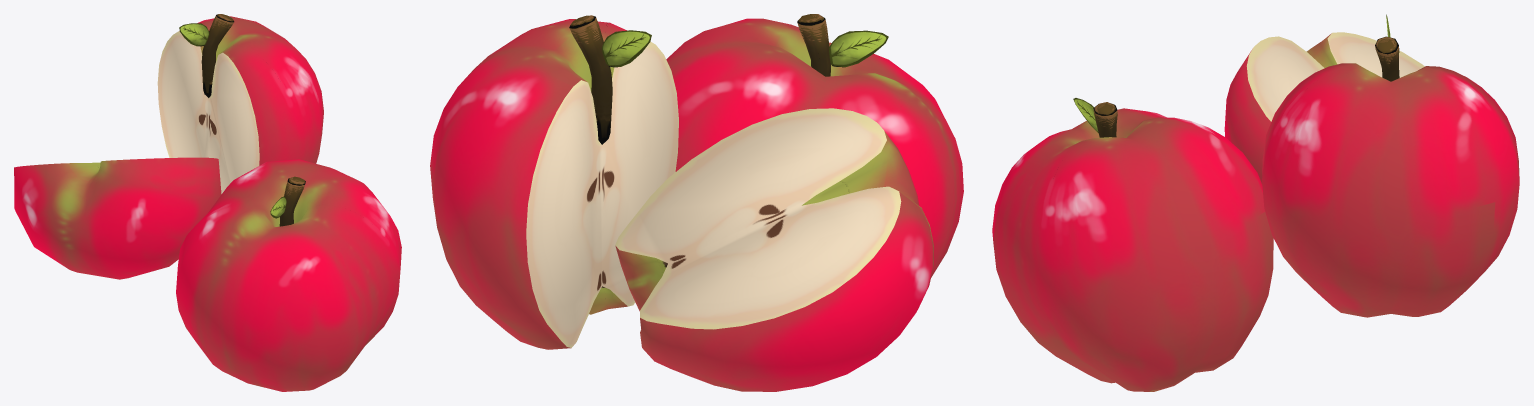
Rendered from Apple.gltf.
The picture shows the model from 3 angles, left to right: view 1: azimuth 30°, elevation 25°; view 2: azimuth 150°, elevation 25°; view 3: azimuth 270°, elevation 25°; orthographic projection. The views are drawn at different scales.
Visible parts, largest first — view 1: Apple, AppleSlice, AppleSlice2; view 2: AppleSlice2, AppleSlice, Apple; view 3: Apple, AppleSlice, AppleSlice2.
Boxes of the visible parts, x1=… form: Apple: x1=176, y1=159, x2=401, y2=391; AppleSlice: x1=157, y1=14, x2=323, y2=193; AppleSlice2: x1=14, y1=157, x2=221, y2=279; AppleSlice2: x1=615, y1=108, x2=933, y2=391; AppleSlice: x1=430, y1=15, x2=678, y2=349; Apple: x1=666, y1=14, x2=963, y2=277; Apple: x1=992, y1=98, x2=1273, y2=391; AppleSlice: x1=1262, y1=14, x2=1519, y2=317; AppleSlice2: x1=1224, y1=32, x2=1424, y2=183.
Bounding box in the file's own units: 3.02 × 2.76 × 3.7.
Materials: 3 (3 with a texture image).
